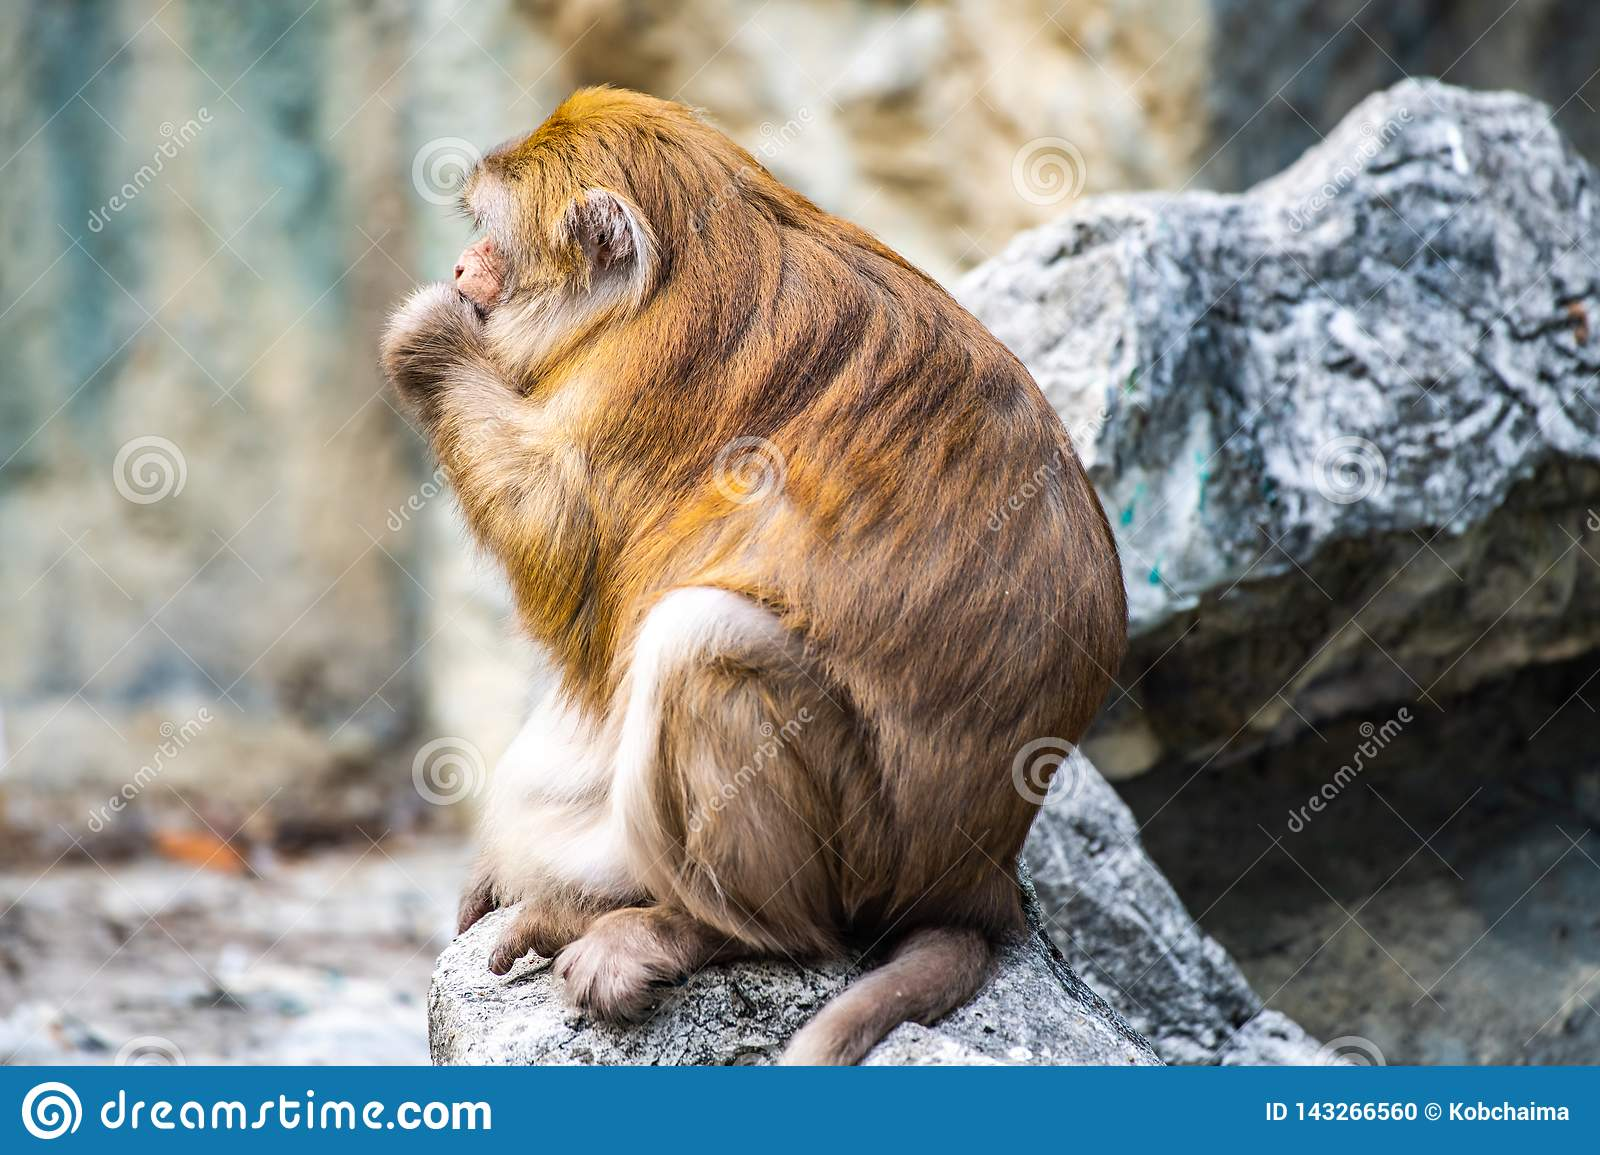monkey: (355, 61, 1149, 1061)
